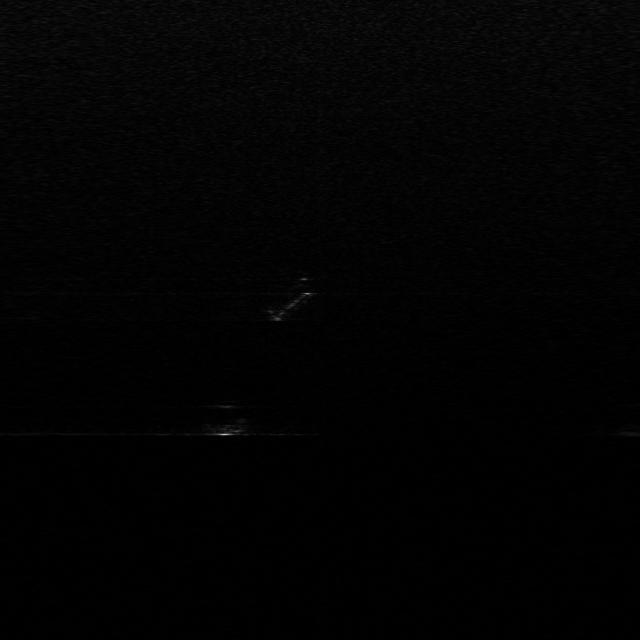ball: (199, 402, 252, 436)
tyre: (264, 278, 314, 322)
